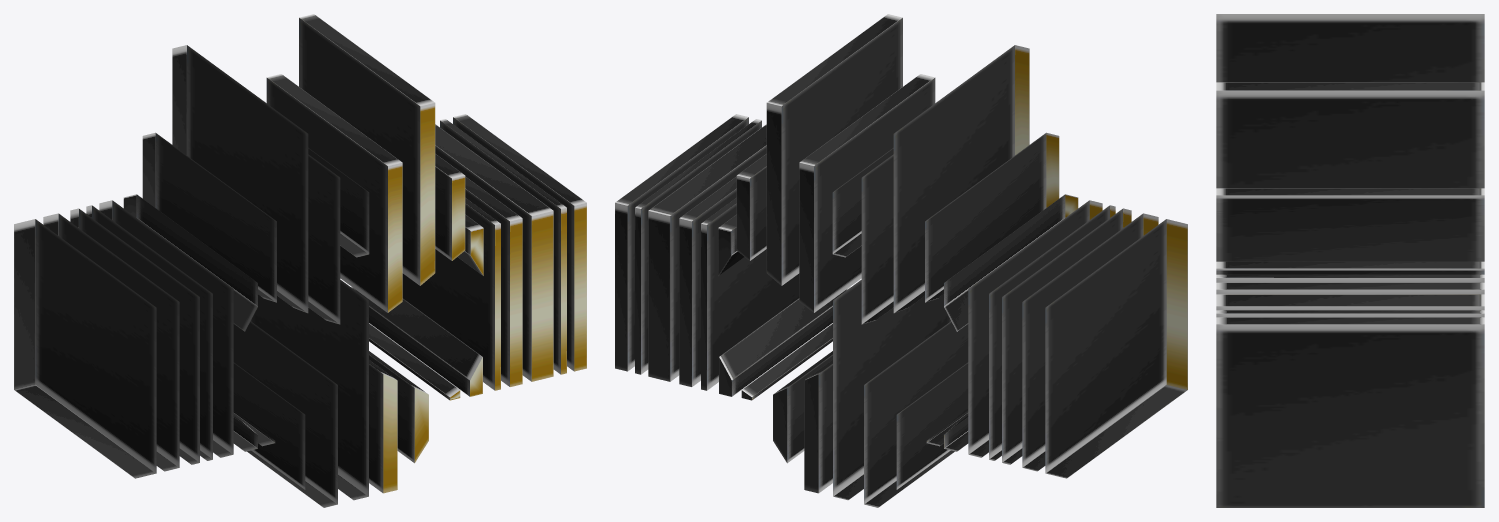
File: icon.ico.obj
The picture shows the model from 3 angles, left to right: view 1: azimuth 30°, elevation 25°; view 2: azimuth 150°, elevation 25°; view 3: azimuth 270°, elevation 25°; orthographic projection. The views are drawn at different scales.
Size of the model in its own units: 4.3 by 3.44 by 2.
Materials: 1 (1 with a texture image).
